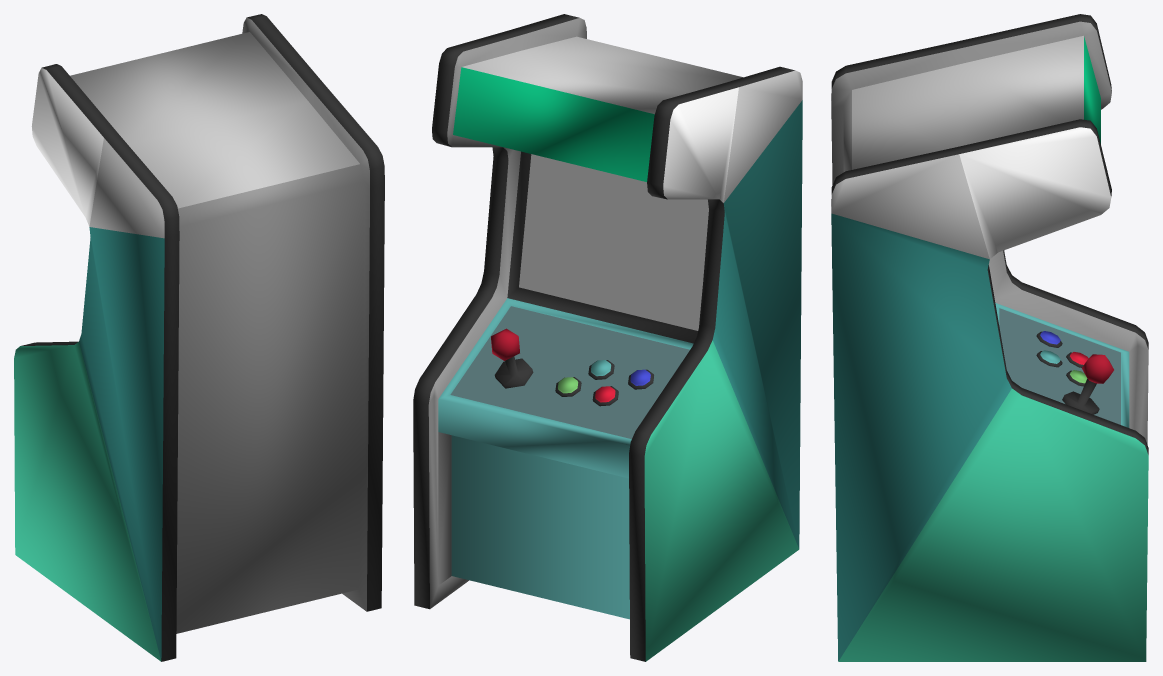
Rendered from Arcade1.fbx.
The picture shows the model from 3 angles, left to right: view 1: azimuth 30°, elevation 25°; view 2: azimuth 150°, elevation 25°; view 3: azimuth 270°, elevation 25°; orthographic projection. The views are drawn at different scales.
Visible parts, largest first — view 1: Arcade1; view 2: Arcade1; view 3: Arcade1.
Part boxes in pixels (x1,y1,x2,y2): Arcade1: (14, 14, 384, 661); Arcade1: (413, 14, 802, 661); Arcade1: (831, 14, 1148, 661).
Bounding box in the file's own units: 4.93 × 5.85 × 10.88.
